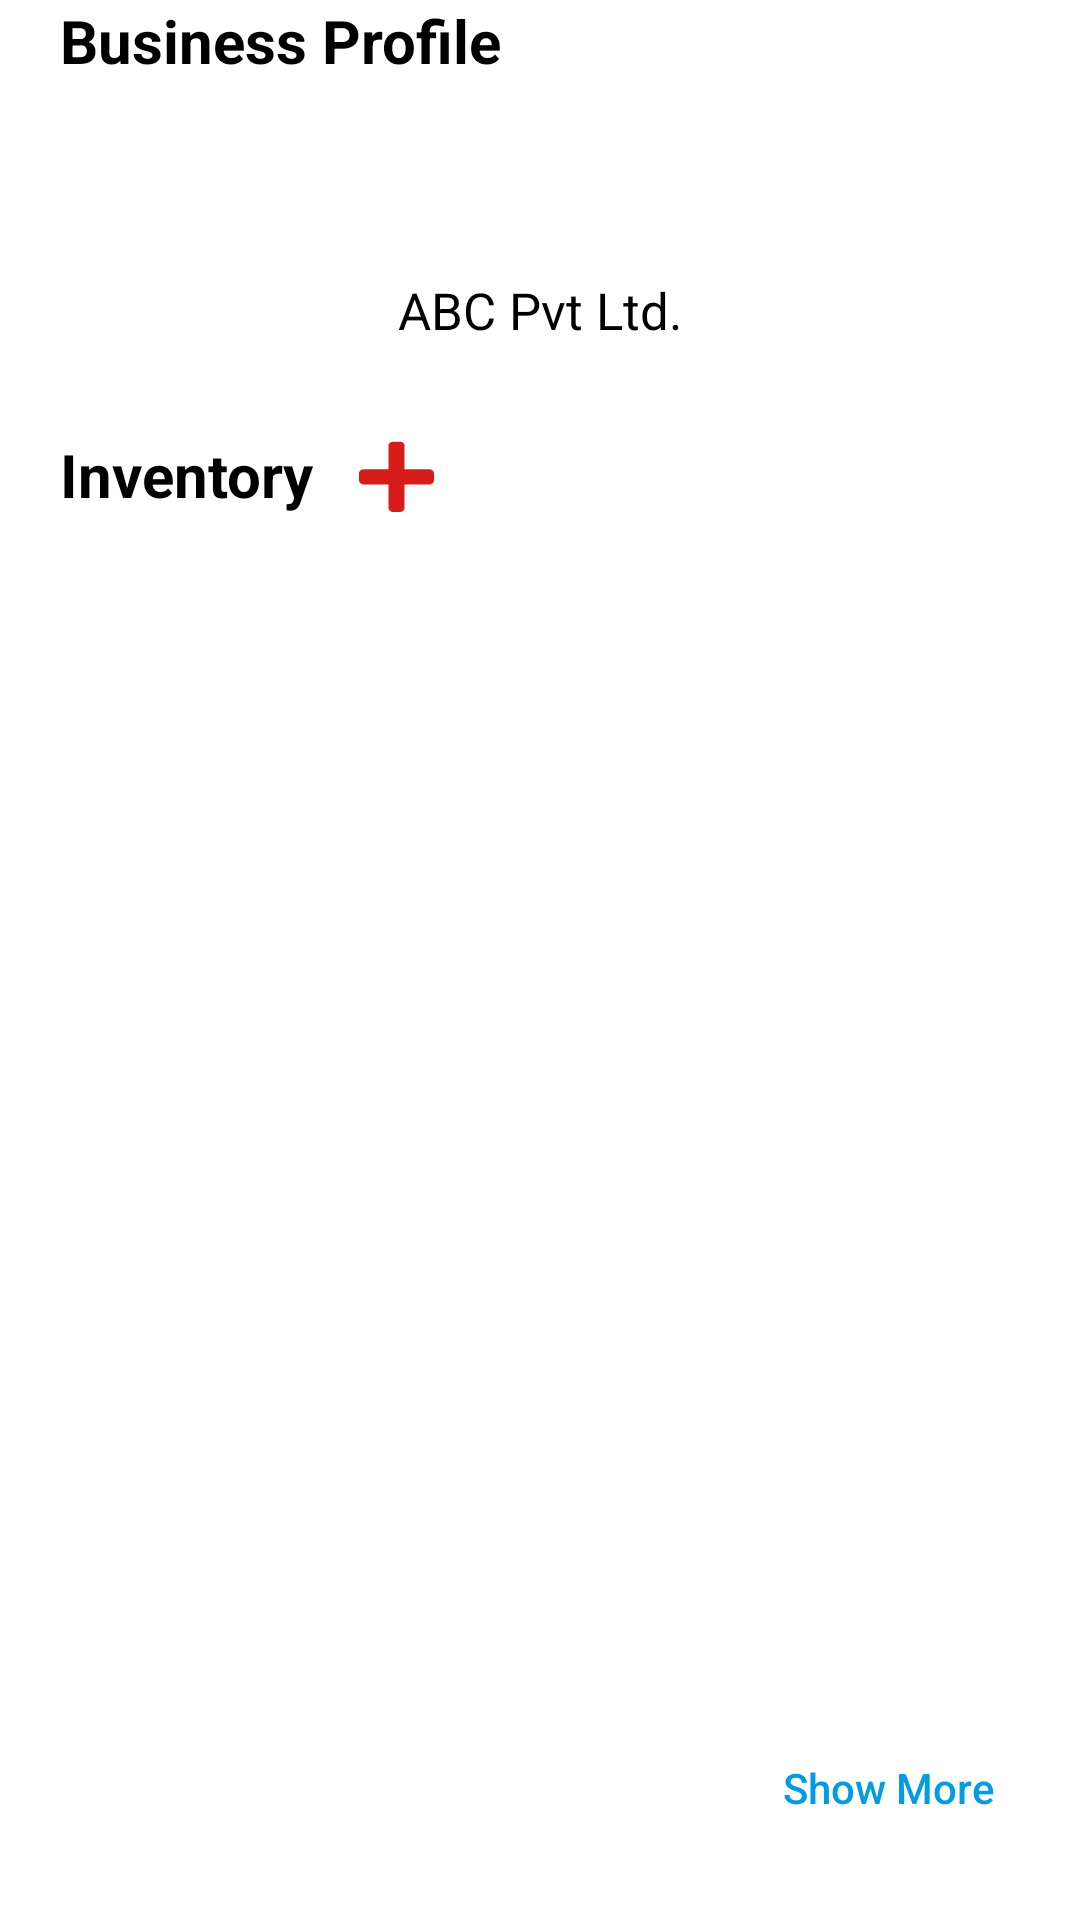

Screen size 1080px×1920px. Icon name, then its box in pixels as {"x1": x1, "y1": y1, "x2": x2, "y2": y2}:
add: {"x1": 359, "y1": 441, "x2": 434, "y2": 512}
